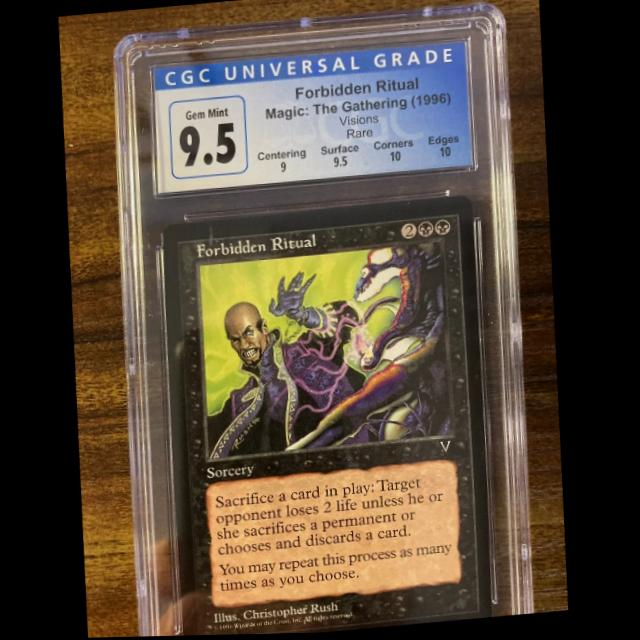card: (163, 195, 496, 637)
cgc_label_old: (153, 43, 474, 195)
cgc_slab: (110, 1, 538, 637)
